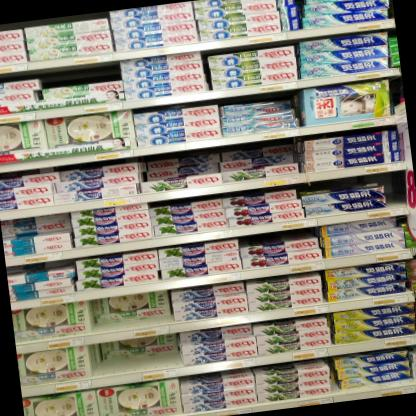empty_space: (381, 170, 406, 207)
